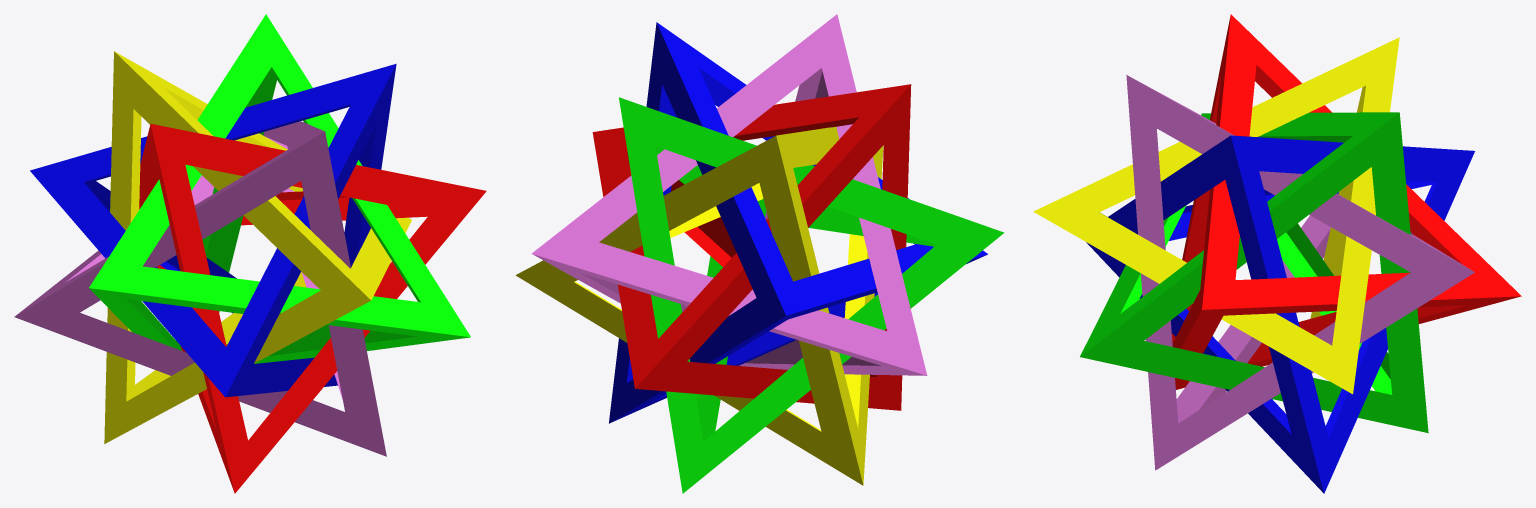
The model's file is tetrahedron2.1.dae.
The picture shows the model from 3 angles, left to right: view 1: azimuth 30°, elevation 25°; view 2: azimuth 150°, elevation 25°; view 3: azimuth 270°, elevation 25°; orthographic projection. The views are drawn at different scales.
Visible parts, largest first — view 1: Component_3 (×5); view 2: Component_3 (×5); view 3: Component_3 (×5).
Boxes of the visible parts, x1,y1,x2,y2 form: Component_3 (×5): (14, 14, 486, 493); Component_3 (×5): (515, 14, 1004, 493); Component_3 (×5): (1033, 14, 1521, 493).
Bounding box in the file's own units: 103 × 108 × 87.68.
